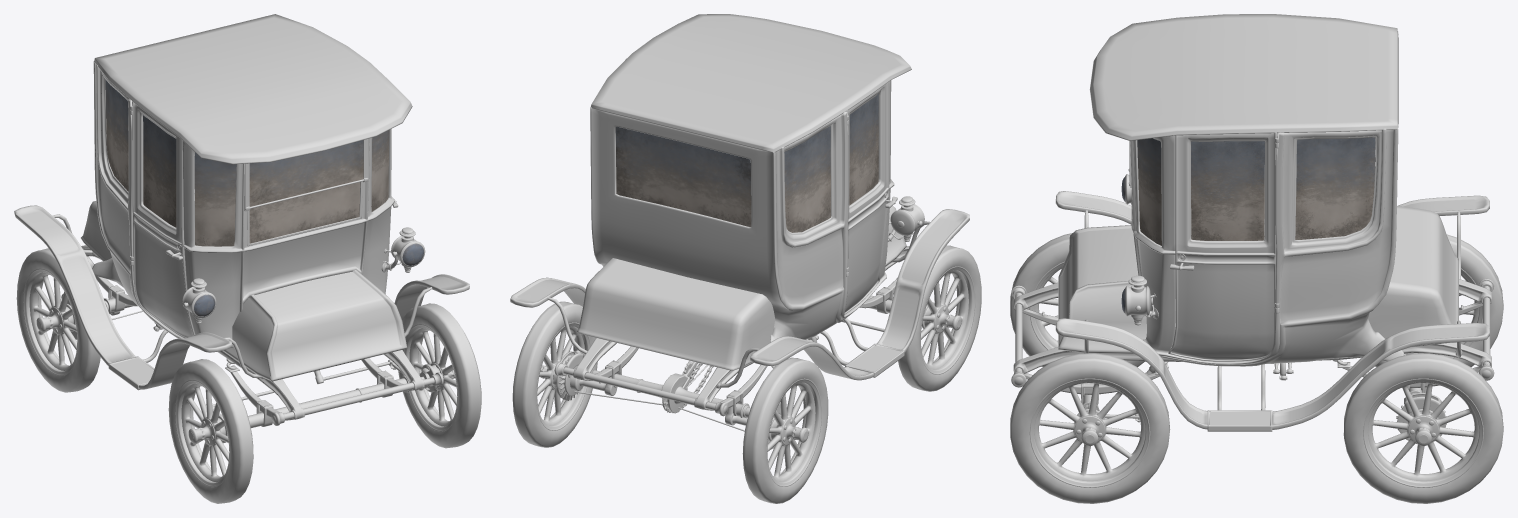
File: Car.fbx
3 renders of one model, left to right at view 1: azimuth 30°, elevation 25°; view 2: azimuth 150°, elevation 25°; view 3: azimuth 270°, elevation 25°, orthographic. The views are drawn at different scales.
Visible parts, largest first — view 1: Baker1910, Baker1910.003, Baker1910.001, Baker1910.004; view 2: Baker1910, Baker1910.004, Baker1910.003, Baker1910.002; view 3: Baker1910, Baker1910.001, Baker1910.002, Baker1910.003, Baker1910.004.
Part boxes in pixels (box(x1,y1,x2,y2)): Baker1910: box(14, 14, 469, 428); Baker1910.003: box(168, 359, 253, 503); Baker1910.001: box(398, 303, 481, 448); Baker1910.004: box(16, 248, 100, 392); Baker1910: box(510, 14, 969, 449); Baker1910.004: box(742, 357, 828, 503); Baker1910.003: box(898, 245, 981, 391); Baker1910.002: box(512, 301, 597, 447); Baker1910: box(1011, 14, 1494, 443); Baker1910.001: box(1010, 353, 1170, 503); Baker1910.002: box(1343, 353, 1503, 503); Baker1910.003: box(1010, 233, 1144, 367); Baker1910.004: box(1375, 234, 1503, 367).
Size of the model in its own units: 350 by 420 by 508.
